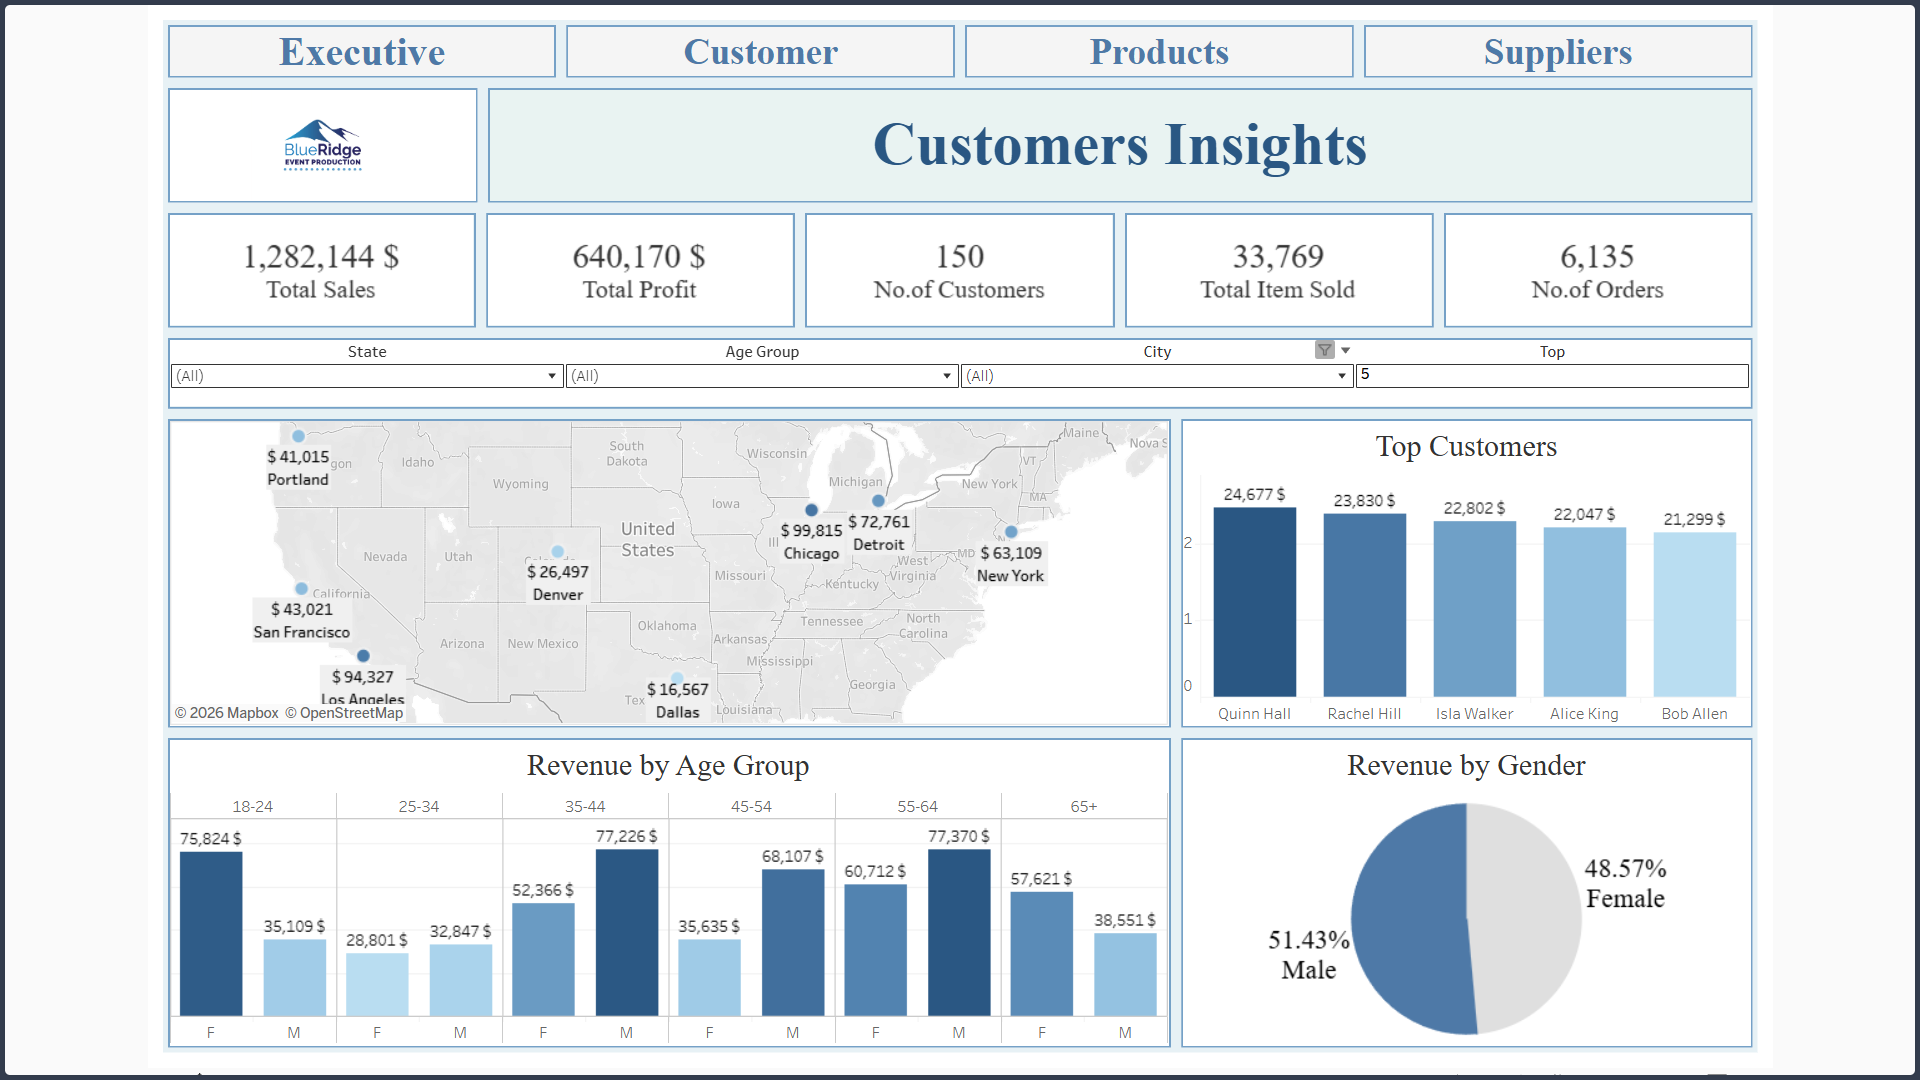

The page's visual inventory and layout, read from the dashboard file:
{"tool":"tableau","page":{"name":"Customers ","canvas":[1300,850],"ordinal":0},"visuals":[{"type":"dashboard-object","box":[12,12,323,50]},{"type":"dashboard-object","box":[335,12,323,50]},{"type":"dashboard-object","box":[658,12,323,50]},{"type":"dashboard-object","box":[981,12,323,50]},{"type":"image","param":"C:/Users/Ahmed/AppData/Local/Temp/TableauTemp/1sie9wa1crddgt1ea1wvz0tsmb56/Sheet","box":[8,66,256,100]},{"type":"worksheet","title":"Total sales","mark":"Automatic","box":[8,166,260,104]},{"type":"worksheet","title":"Total profit","mark":"Automatic","box":[268,166,260,104]},{"type":"worksheet","title":"No.of Cust","mark":"Automatic","box":[528,166,260,104]},{"type":"worksheet","title":"total items","mark":"Automatic","box":[788,166,260,104]},{"type":"filter","title":"No. of Orders","param":"[federated.0gzt13c13roajo1d21p27038xadh].[none:State:nk]","box":[14,276,322,46]},{"type":"filter","title":"Revenue by Age Group","param":"[federated.0gzt13c13roajo1d21p27038xadh].[none:Calculation_0430227850764292:nk]","box":[336,276,322,46]},{"type":"filter","title":"No. of Orders","param":"[federated.0gzt13c13roajo1d21p27038xadh].[none:City:nk]","box":[658,276,322,46]},{"type":"parameter","param":"[Parameters].[Parameter 1]","box":[980,276,322,46]},{"type":"worksheet","title":"Profit Map_City","mark":"Automatic","box":[8,328,900,265]}]}

Visuals, with their boxes on the page's 1300x850 design canvas (x1, y1, x2, y2). These are canvas units, not pixel positions in the 1920x1080 screenshot, which may show the page scaled, cropped or inside an application window:
dashboard-object: bbox(12, 12, 335, 62)
dashboard-object: bbox(335, 12, 658, 62)
dashboard-object: bbox(658, 12, 981, 62)
dashboard-object: bbox(981, 12, 1304, 62)
image: bbox(8, 66, 264, 166)
"Total sales" worksheet: bbox(8, 166, 268, 270)
"Total profit" worksheet: bbox(268, 166, 528, 270)
"No.of Cust" worksheet: bbox(528, 166, 788, 270)
"total items" worksheet: bbox(788, 166, 1048, 270)
"No. of Orders" filter: bbox(14, 276, 336, 322)
"Revenue by Age Group" filter: bbox(336, 276, 658, 322)
"No. of Orders" filter: bbox(658, 276, 980, 322)
parameter: bbox(980, 276, 1302, 322)
"Profit Map_City" worksheet: bbox(8, 328, 908, 593)
